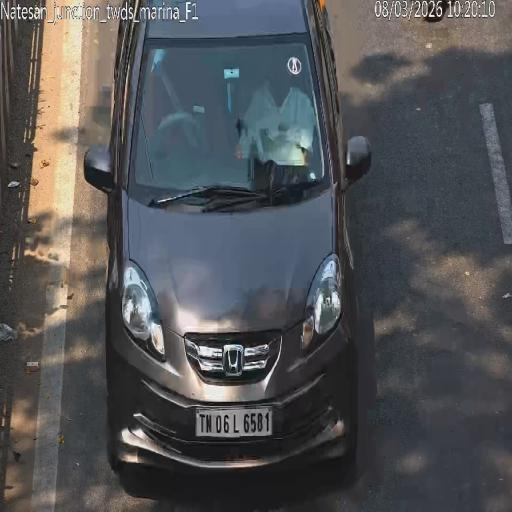person_with_seatbelt: (157, 59, 199, 155)
person_without_seatbelt: (250, 100, 312, 159)
